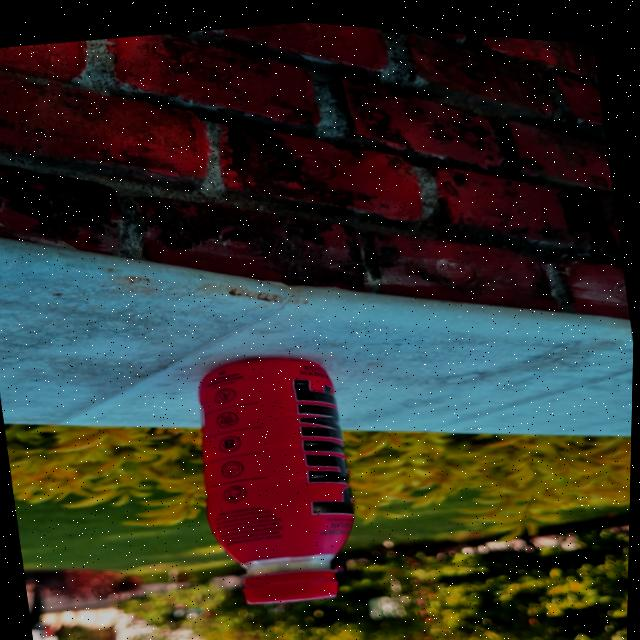Prime - Shitass: (185, 340, 378, 615)
